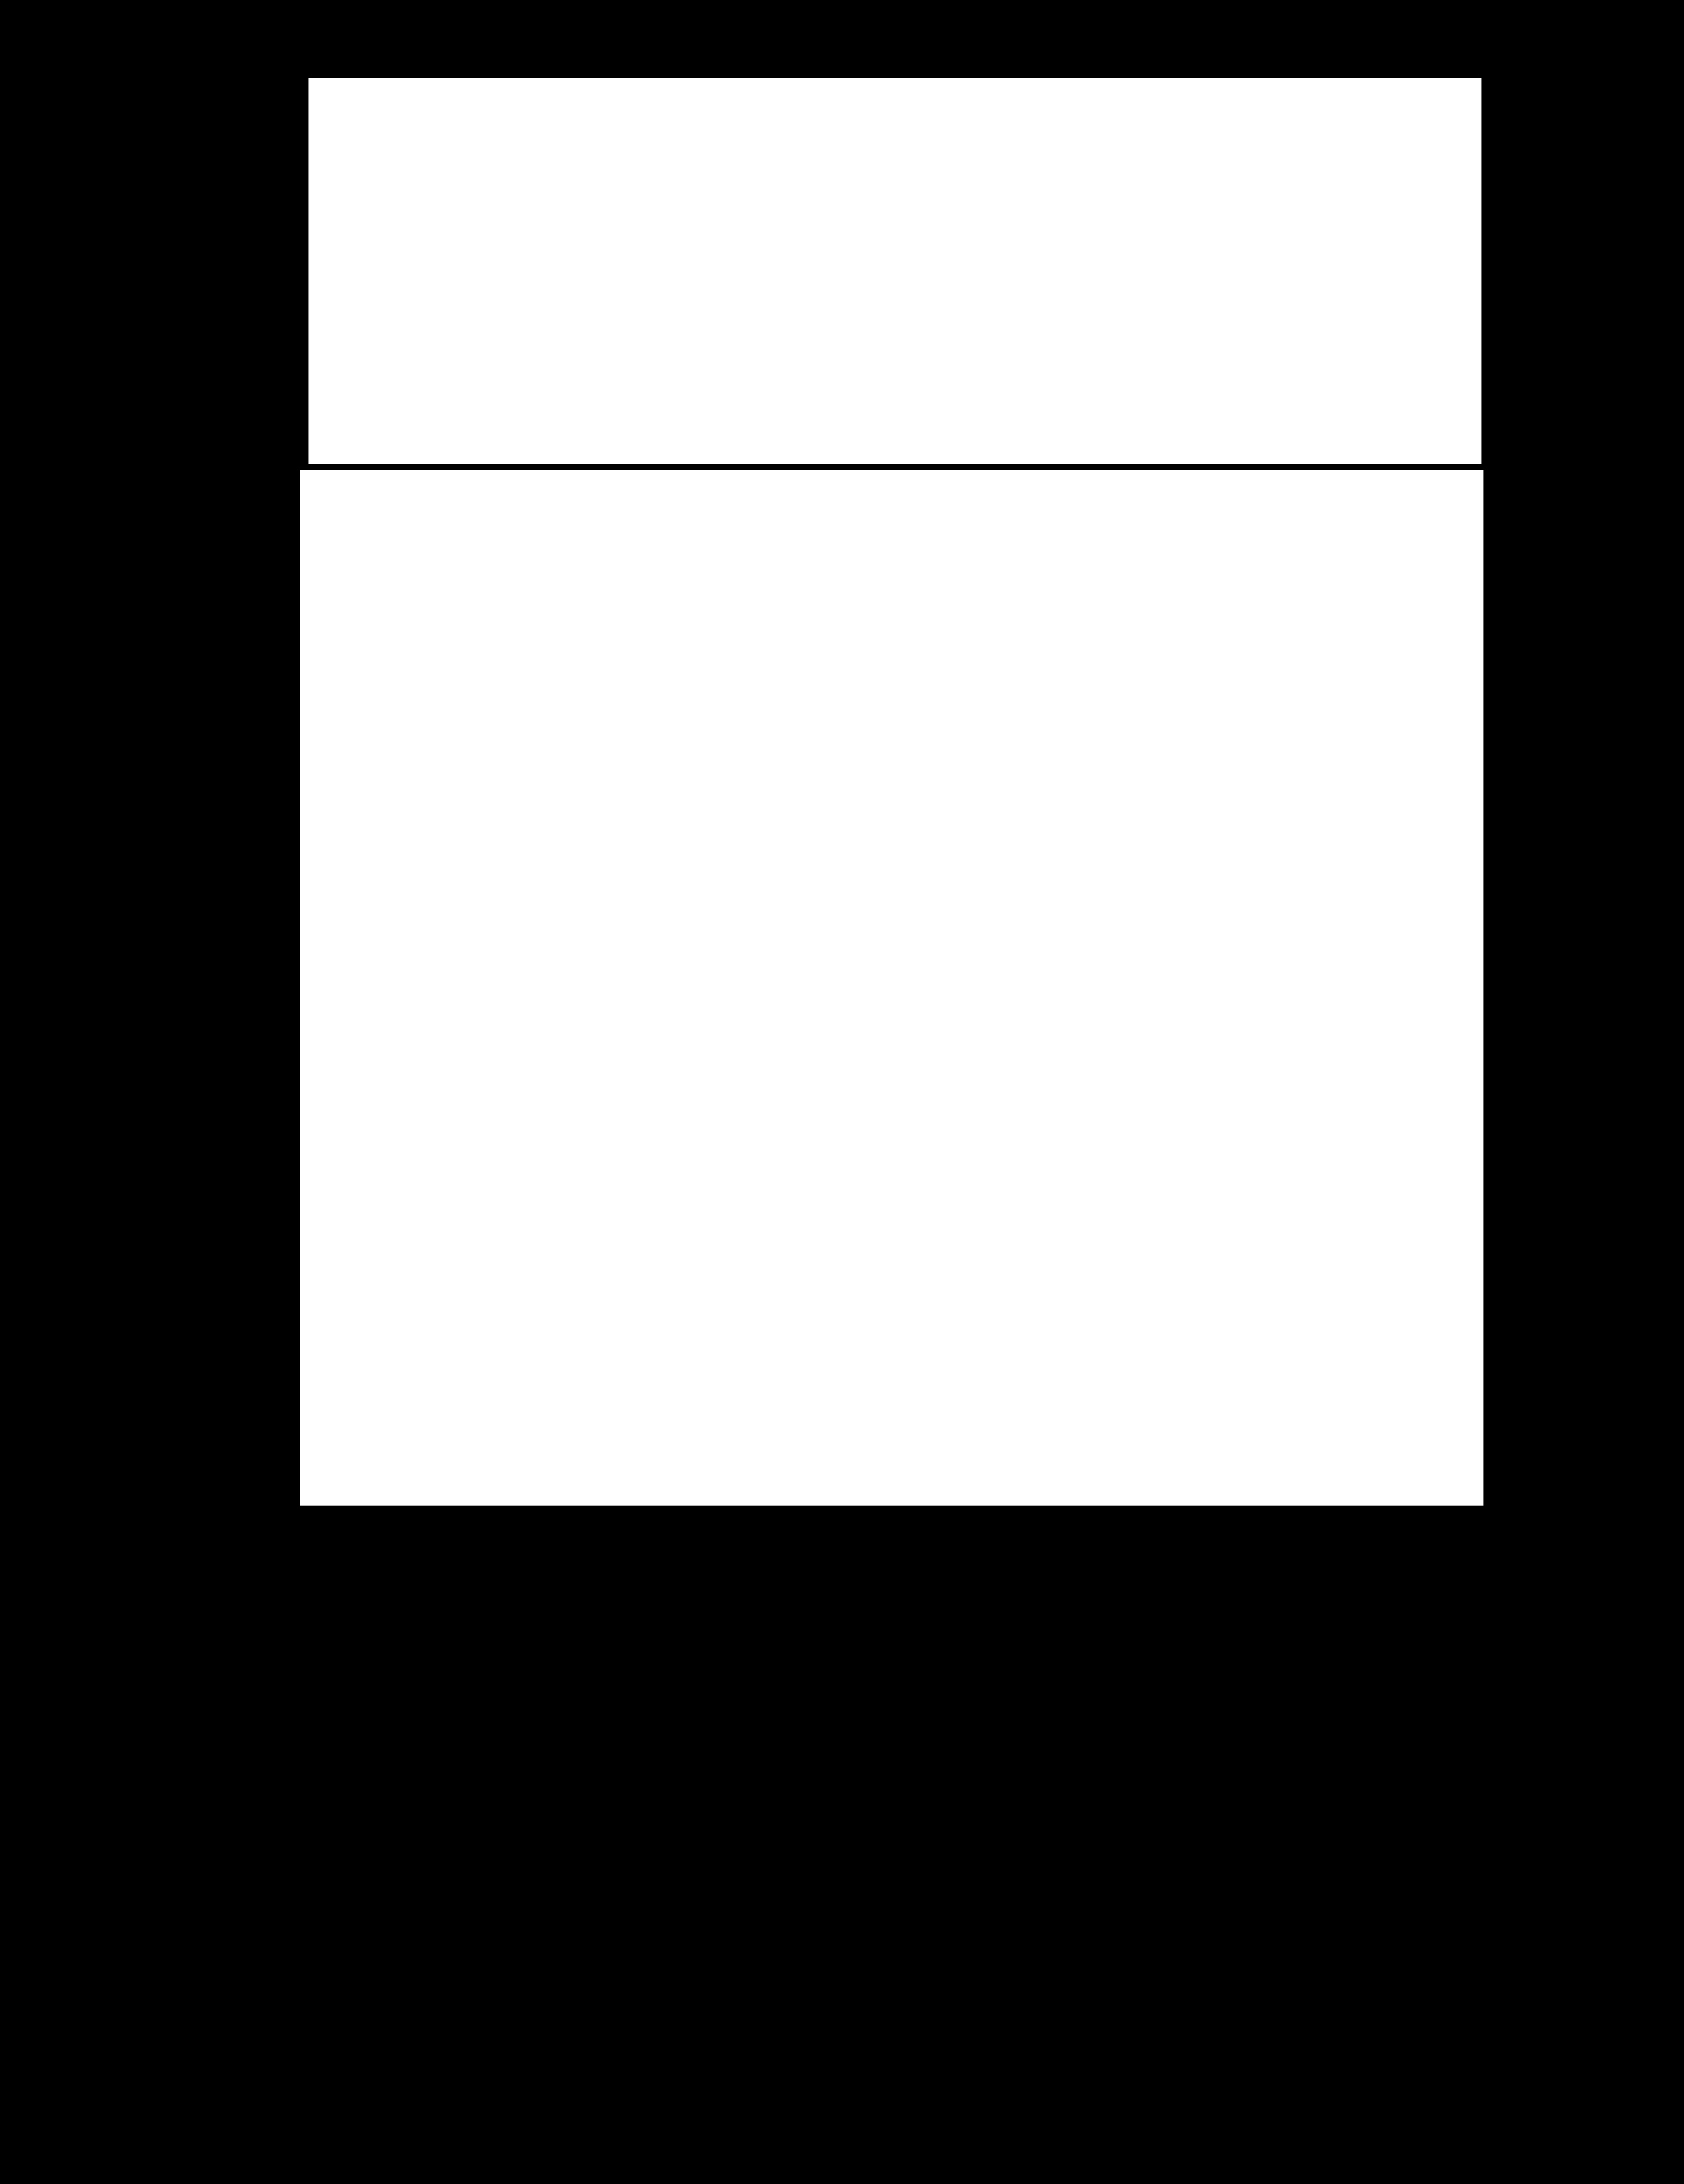table: (301, 470, 1482, 1505), (308, 78, 1481, 463)
